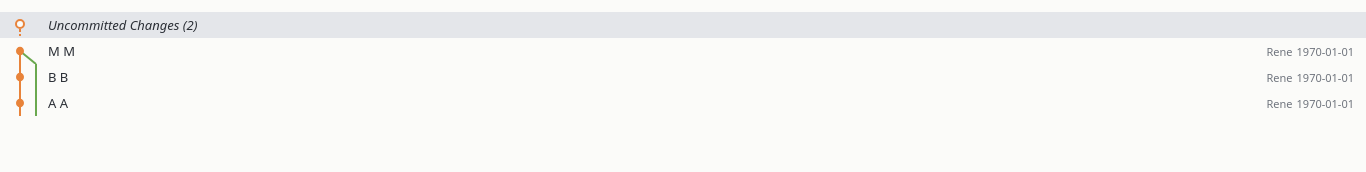
it: CommitGraph › disables multi-commit pick and revert while pending or with a merge commit selected
The image size is (1366, 172).
What coordinates should you click on to do the following:
click the option "M M Rene 1970-01-01"
I would click on:
 (28, 51)
Its box is [0,38,1365,64].
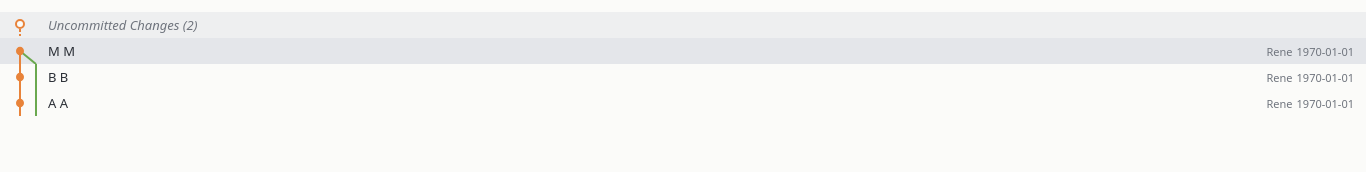
What coordinates should you click on to do the following:
click the option "B B Rene 1970-01-01"
I would click on:
 (28, 77)
Its box is [0,64,1365,90].
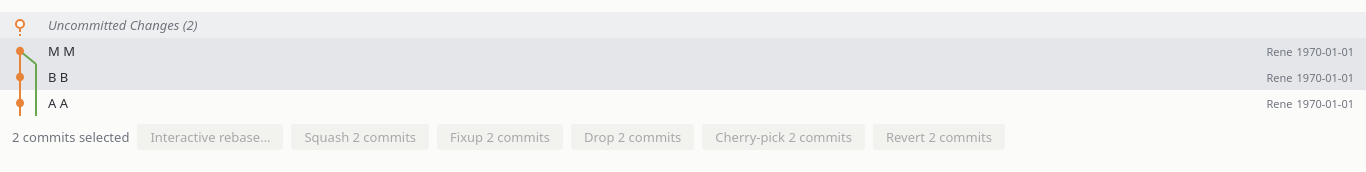
Expected: the button "Cherry-pick 2 commits" is disabled, [702,124,865,150]
